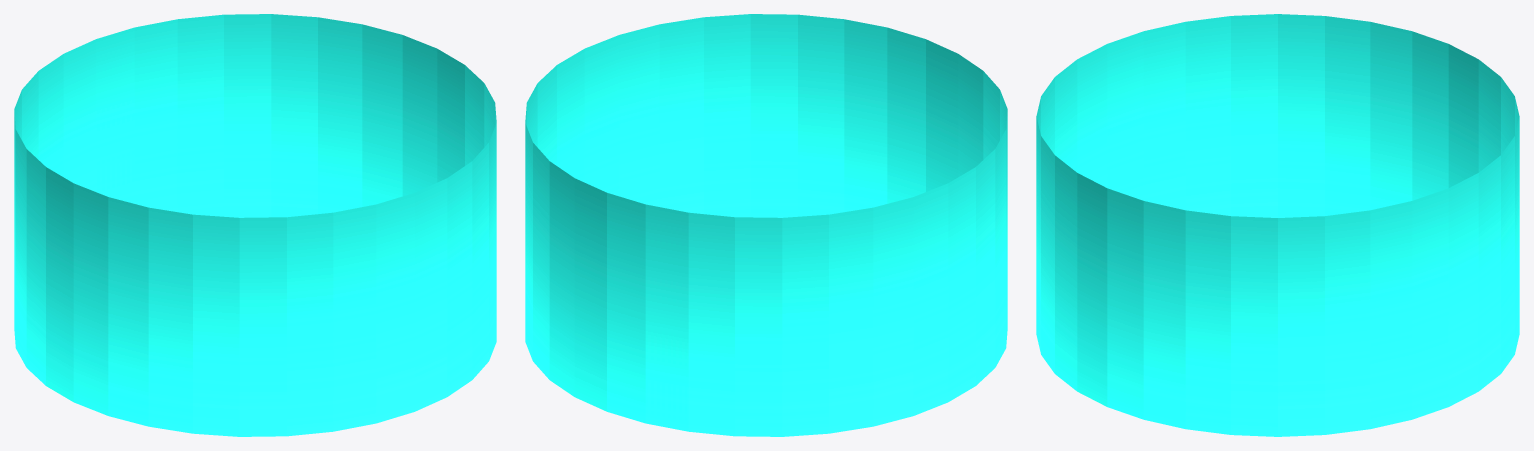
The model's file is lb_beam_4.glb.
3 views of the same model, side by side, from view 1: azimuth 30°, elevation 25°; view 2: azimuth 150°, elevation 25°; view 3: azimuth 270°, elevation 25° (orthographic).
Visible parts, largest first — view 1: lb_beam_4; view 2: lb_beam_4; view 3: lb_beam_4.
Boxes of the visible parts, bbox=[...] form: lb_beam_4: bbox=[14, 14, 496, 436]; lb_beam_4: bbox=[525, 14, 1007, 436]; lb_beam_4: bbox=[1036, 14, 1519, 436].
Bounding box in the file's own units: 2 × 1 × 2.
Materials: 1 (1 with a texture image).
